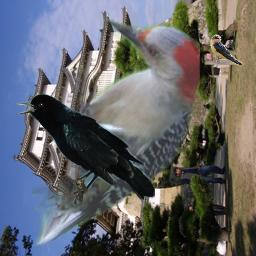Crow: (16, 94, 155, 205)
Swallow: (210, 33, 245, 67)
Woodpecker: (32, 19, 200, 251)
